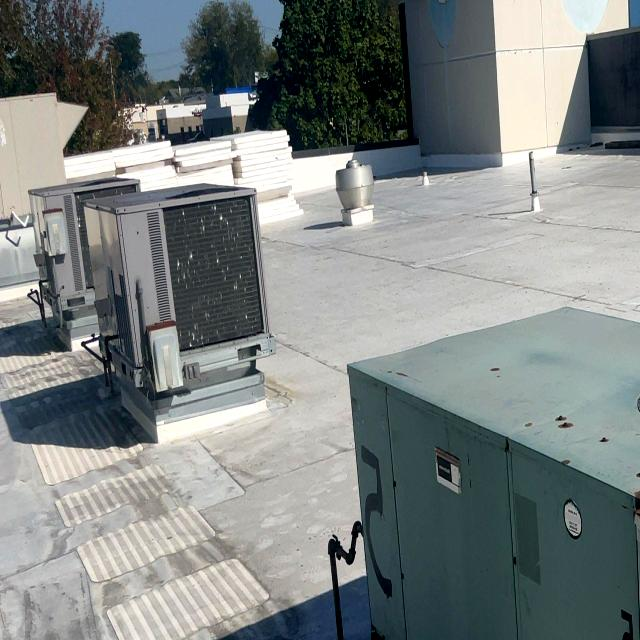GRAVITY-VENT: (332, 150, 377, 237)
RTU: (342, 275, 640, 640), (76, 166, 286, 424), (26, 160, 142, 342)
